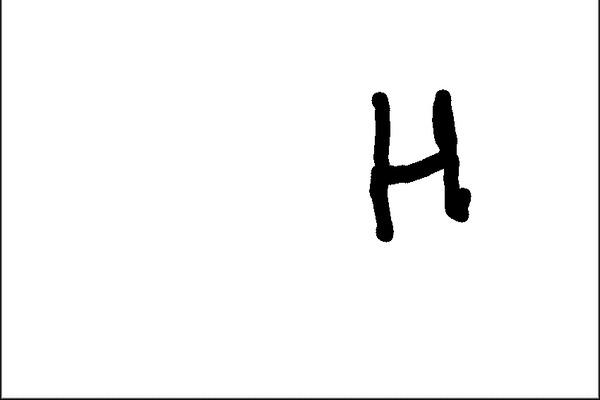H: (362, 87, 488, 247)
